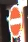No entry: (6, 5, 22, 37)
